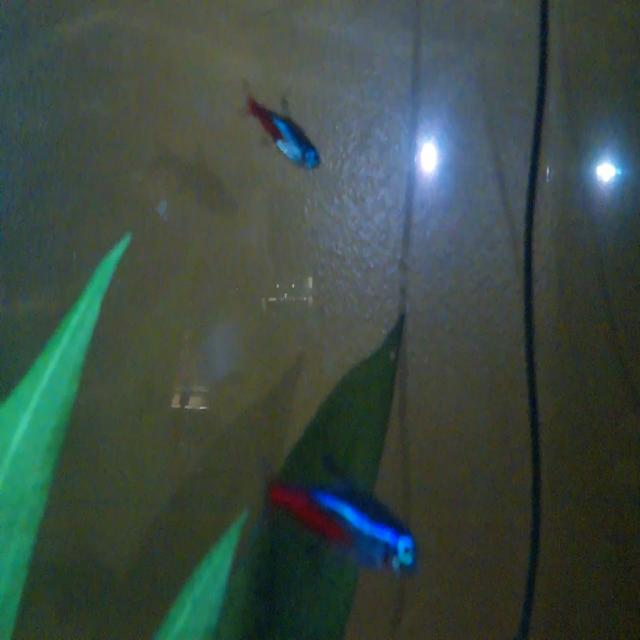fish: (252, 450, 422, 580), (220, 72, 331, 185)
